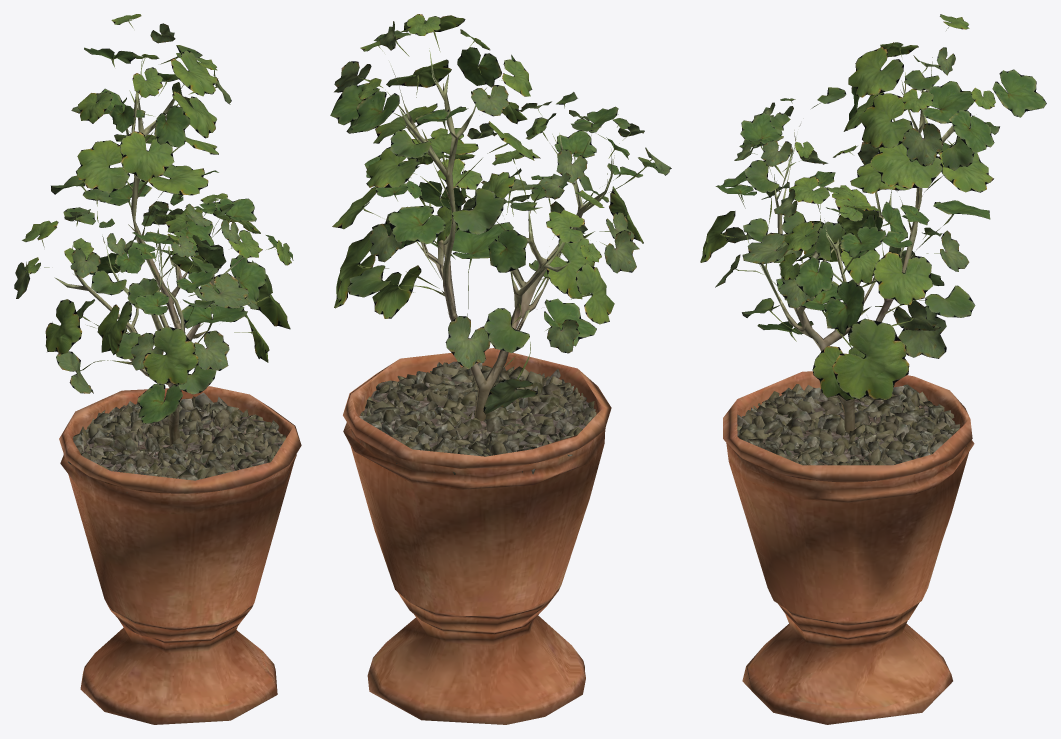
File: potted_plant_01.glb
3 renders of one model, left to right at view 1: azimuth 30°, elevation 25°; view 2: azimuth 150°, elevation 25°; view 3: azimuth 270°, elevation 25°, orthographic. The views are drawn at different scales.
Visible parts, largest first — view 1: potted_plant_01_pot, potted_plant_01_leaves, potted_plant_01_pebbles, potted_plant_01_stem; view 2: potted_plant_01_pot, potted_plant_01_leaves, potted_plant_01_pebbles, potted_plant_01_stem; view 3: potted_plant_01_pot, potted_plant_01_leaves, potted_plant_01_pebbles, potted_plant_01_stem.
Part boxes in pixels (x1,y1,x2,y2): potted_plant_01_pot: (59,386,301,724); potted_plant_01_leaves: (14,14,293,423); potted_plant_01_pebbles: (68,392,293,492); potted_plant_01_stem: (54,57,244,445); potted_plant_01_pot: (343,348,611,724); potted_plant_01_leaves: (330,14,671,414); potted_plant_01_pebbles: (359,361,596,474); potted_plant_01_stem: (399,48,612,421); potted_plant_01_pot: (723,371,974,724); potted_plant_01_leaves: (700,14,1046,400); potted_plant_01_pebbles: (737,384,966,482); potted_plant_01_stem: (760,57,966,434).
Bounding box in the file's own units: 0.5866 × 1.33 × 0.6336.
2 materials, 2 textured.
